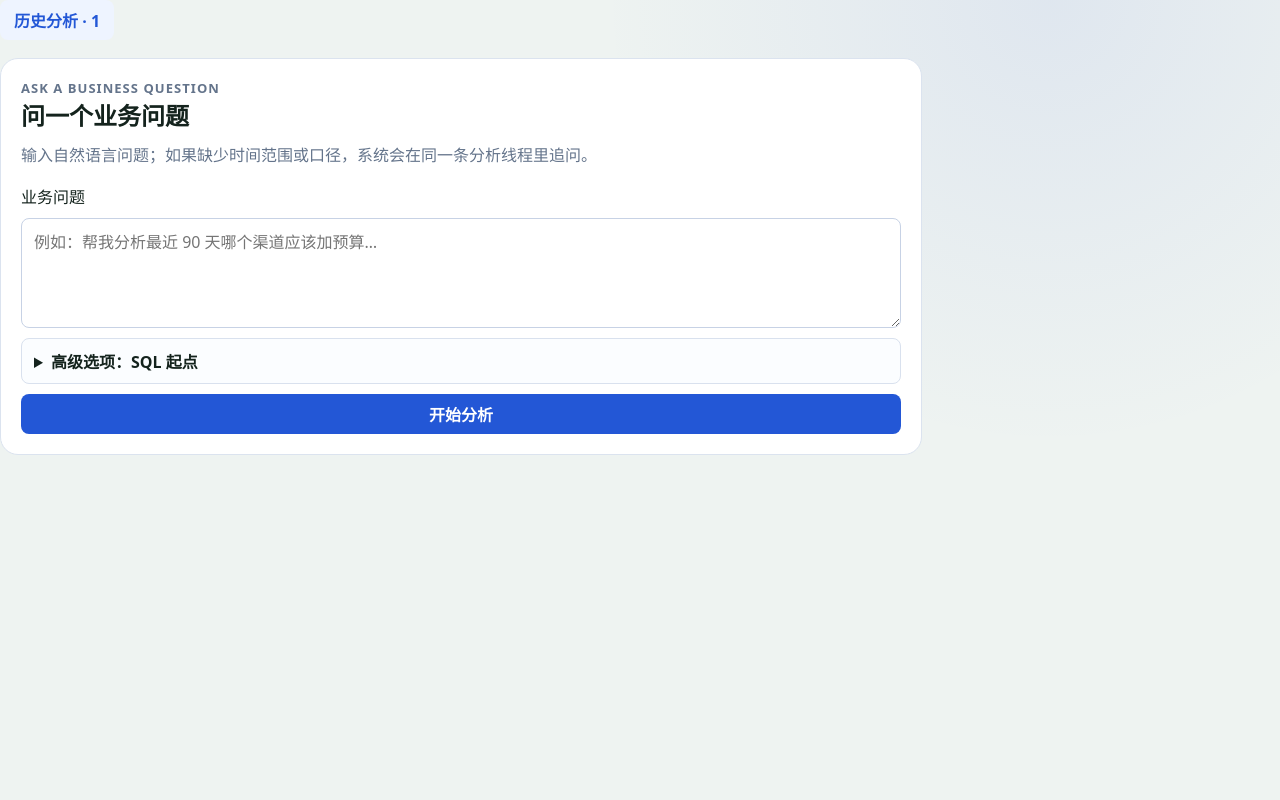
Test: workspace product components › restores a selected history run into the analysis result
The image size is (1280, 800).
Click the button "历史分析 · 1".
click(57, 20)  # box [0,0,114,40]
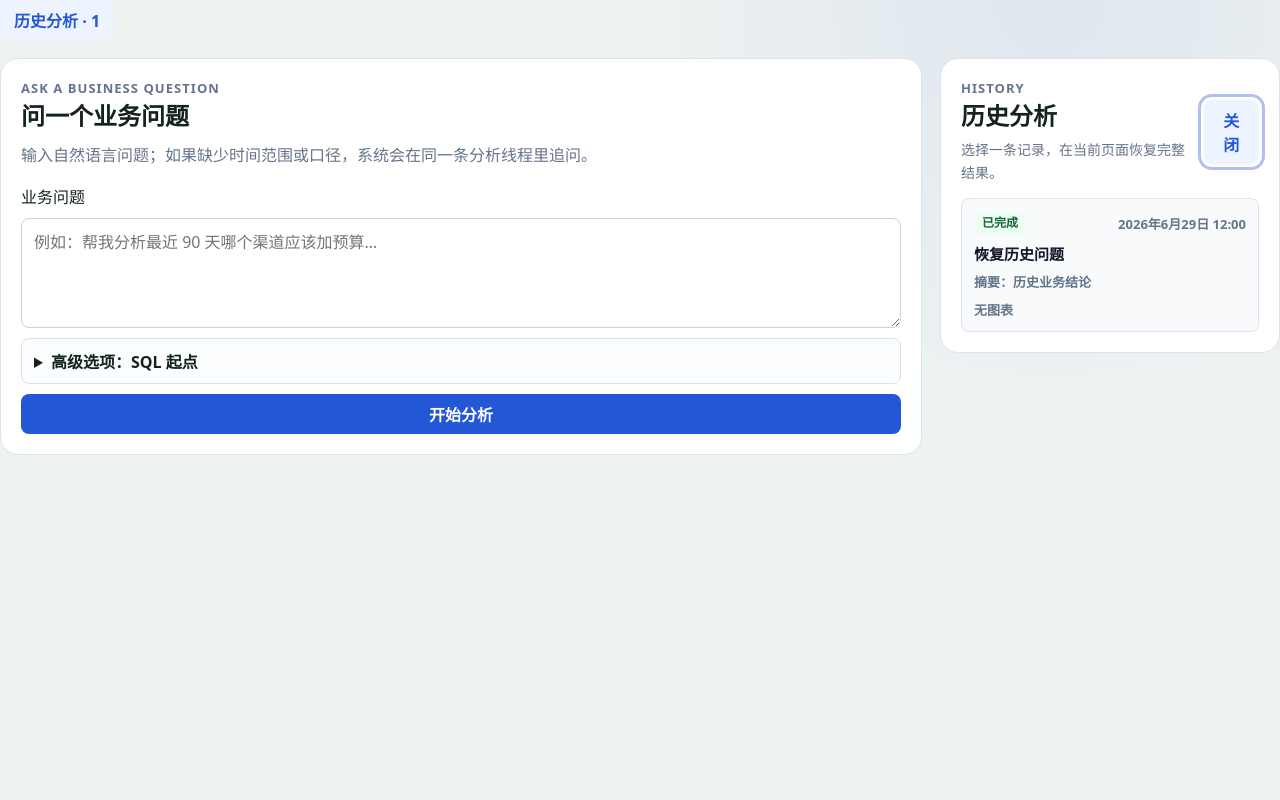
Click the button "已完成 2026年6月29日 12:00 恢复历史问题 摘要：历史业务结论 无图表".
click(1000, 223)  # box [961,198,1259,332]
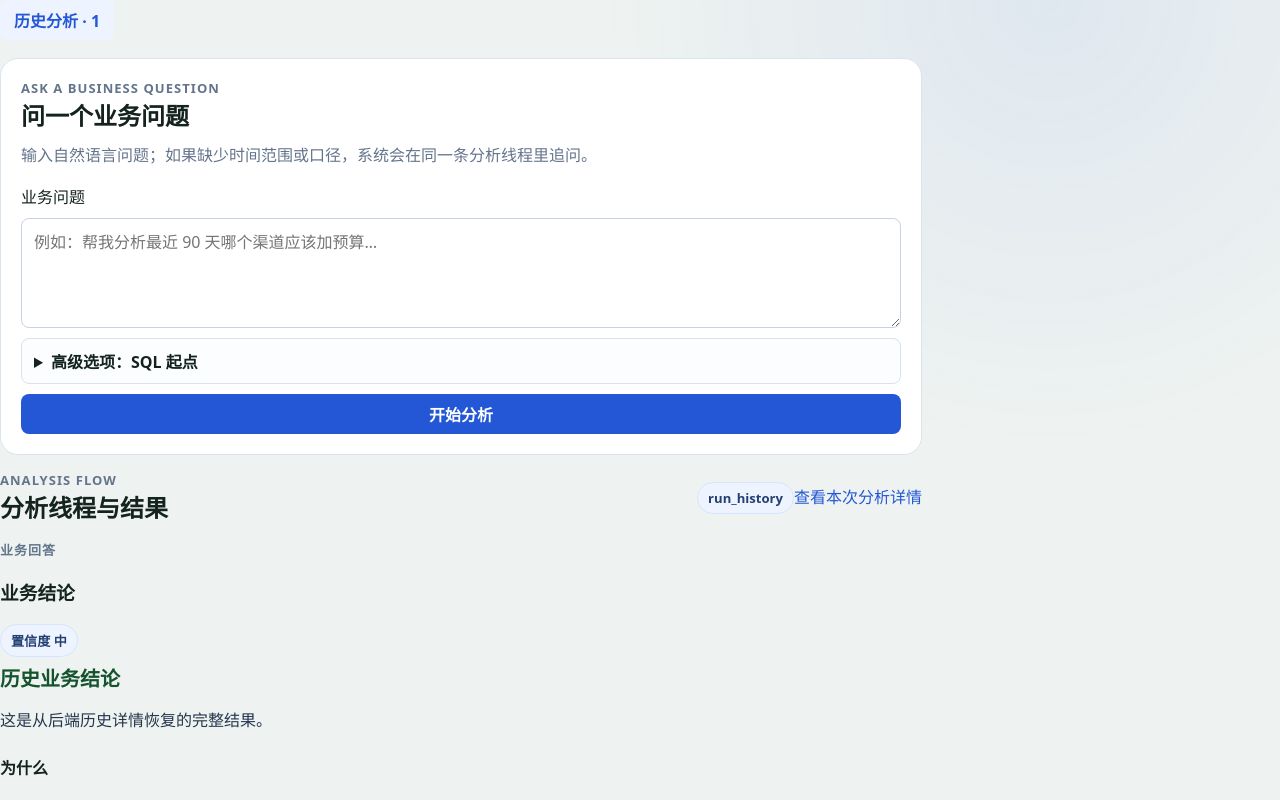
Now the text "历史业务结论" is shown, box [0,665,120,692]
Now the text "这是从后端历史详情恢复的完整结果。" is shown, box [0,709,272,731]
